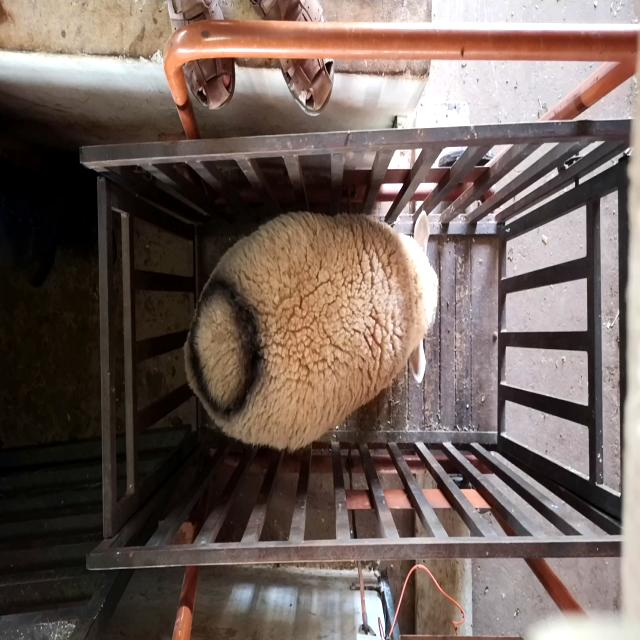sheep: (183, 209, 441, 453)
